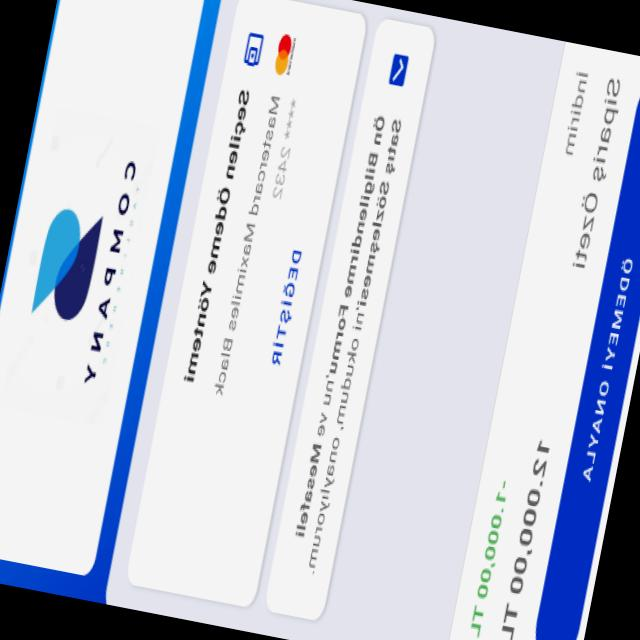QLabel: (211, 91, 282, 399), (180, 87, 252, 386), (322, 105, 390, 378), (303, 313, 366, 578), (577, 250, 638, 488), (494, 429, 556, 640), (566, 70, 624, 276), (353, 110, 405, 314), (463, 459, 514, 640), (266, 242, 306, 369), (557, 59, 593, 164), (269, 96, 302, 203), (292, 439, 324, 541), (314, 378, 334, 438)
VBtn: (527, 70, 640, 640), (259, 214, 315, 402)
VCard: (102, 0, 563, 640), (123, 0, 368, 609), (0, 0, 206, 577), (260, 17, 438, 625)
VCheckbox: (382, 44, 413, 96)
VFooter: (441, 41, 640, 640)
VIcon: (240, 30, 265, 70)
VImg: (11, 125, 153, 400), (270, 29, 298, 79)
